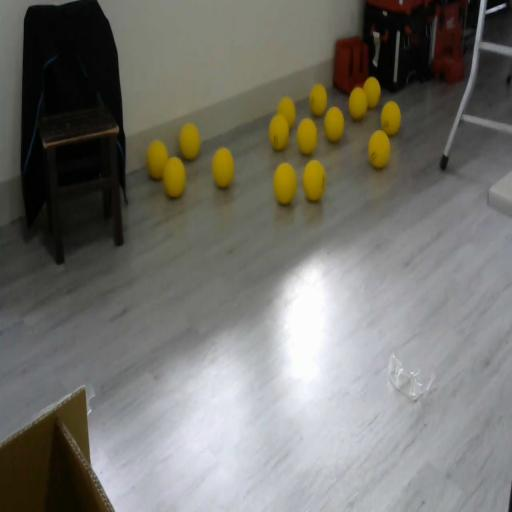FUEL: (272, 161, 298, 205), (302, 158, 326, 202), (162, 154, 186, 198), (211, 146, 235, 188), (178, 122, 201, 162), (146, 140, 168, 180), (368, 130, 390, 168), (380, 100, 402, 136), (297, 117, 317, 155), (324, 106, 344, 141), (362, 75, 382, 108), (348, 87, 368, 120), (277, 96, 296, 130), (309, 83, 327, 116)
